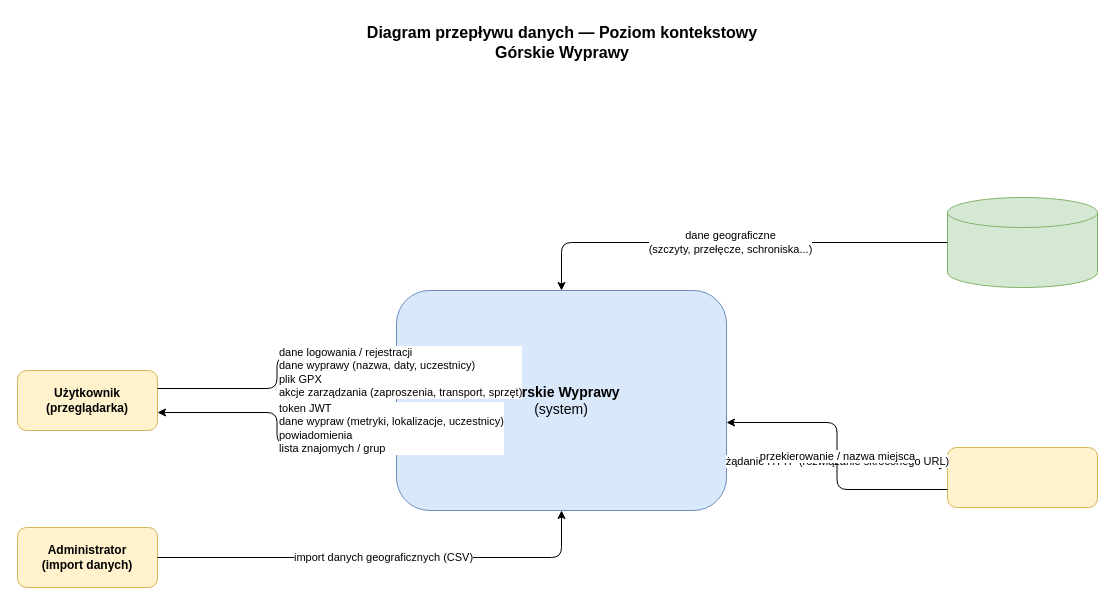
Some shapes in this 1115 by 605 pixel diagram are drawn without their labels. Each missing label, with the centre of its shape:
GeoNames (baza geograficzna): point (1022, 242)
Google Maps / Booking.com: point (1022, 477)
